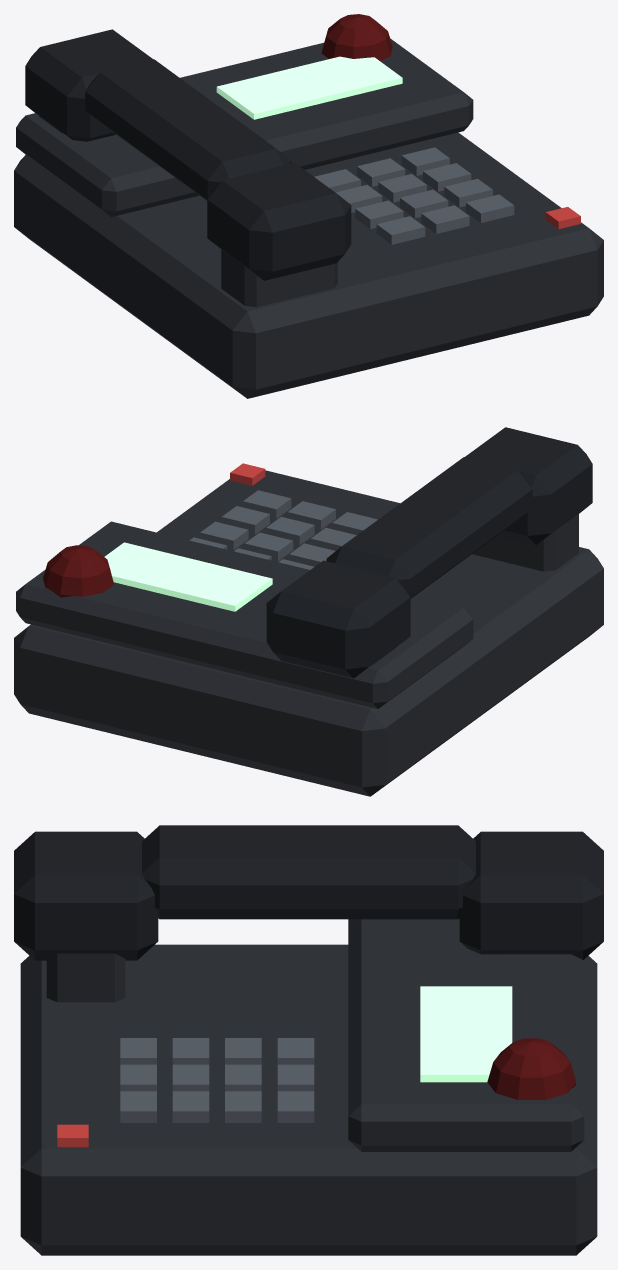
The model's file is desk_phone.glb.
3 views of the same model, one above another, from view 1: azimuth 30°, elevation 25°; view 2: azimuth 150°, elevation 25°; view 3: azimuth 270°, elevation 25° (orthographic). The views are drawn at different scales.
Visible parts, largest first — view 1: PhoneBase, Handset, RingBulb; view 2: PhoneBase, Handset, RingBulb; view 3: PhoneBase, Handset, RingBulb.
Boxes of the visible parts, left/top/right/bottom form: PhoneBase: left=14, top=38, right=603, bottom=398; Handset: left=25, top=29, right=351, bottom=280; RingBulb: left=321, top=14, right=392, bottom=61; PhoneBase: left=14, top=463, right=603, bottom=796; Handset: left=266, top=427, right=592, bottom=678; RingBulb: left=43, top=545, right=113, bottom=597; PhoneBase: left=20, top=918, right=597, bottom=1255; Handset: left=14, top=825, right=603, bottom=960; RingBulb: left=487, top=1038, right=576, bottom=1099.
Bounding box in the file's own units: 0.2 × 0.101 × 0.225.
